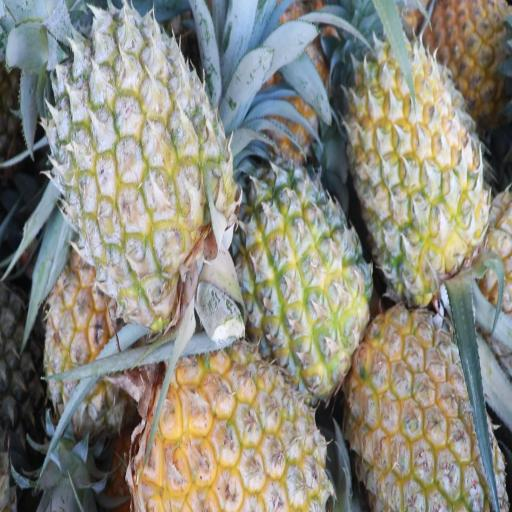------------------------------: (53, 16, 230, 313), (237, 163, 373, 388), (40, 252, 135, 436)
Pineapple - v8 v1: (350, 33, 488, 295), (137, 339, 332, 512), (352, 307, 502, 512)
